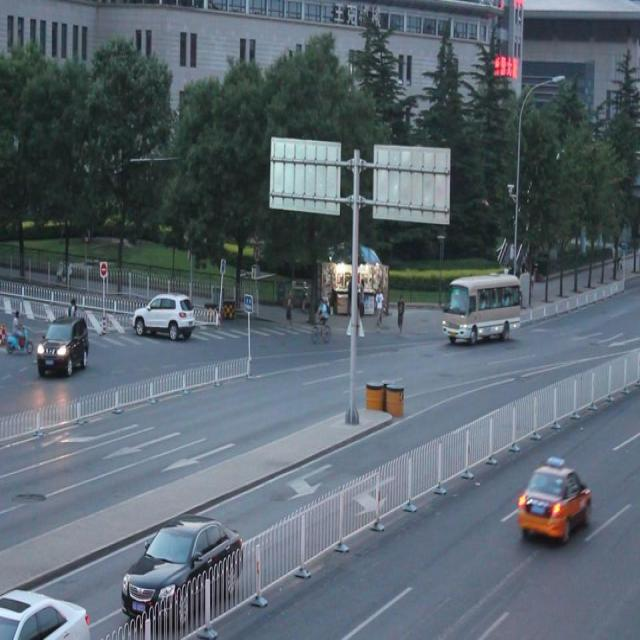car: (123, 514, 245, 627), (515, 462, 589, 540), (0, 586, 92, 640), (34, 314, 89, 378), (132, 292, 195, 342)
truck: (444, 273, 519, 341)
